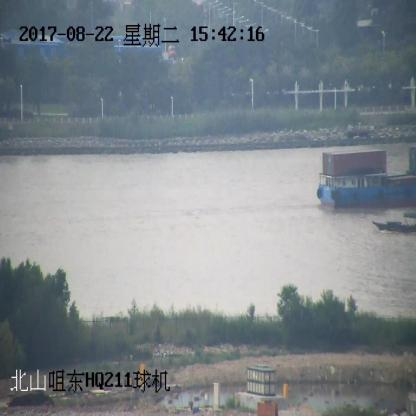Container Ship: (318, 150, 416, 210)
